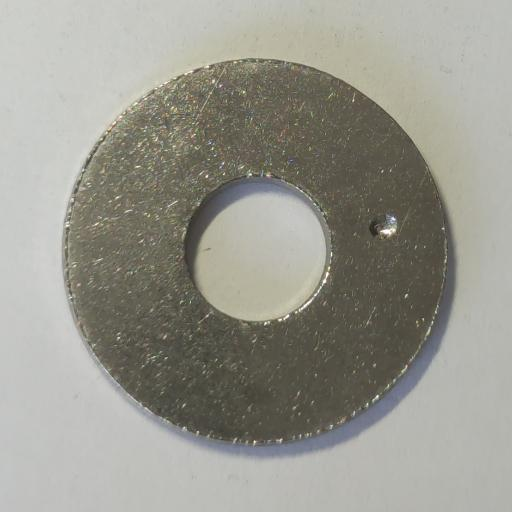circular_cavity: (368, 210, 398, 241)
